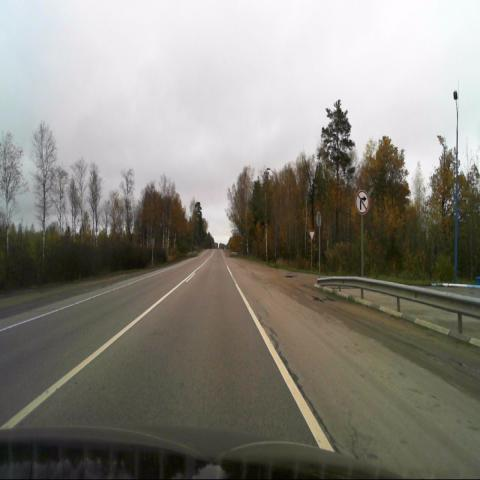3_18: (355, 190, 369, 214)
